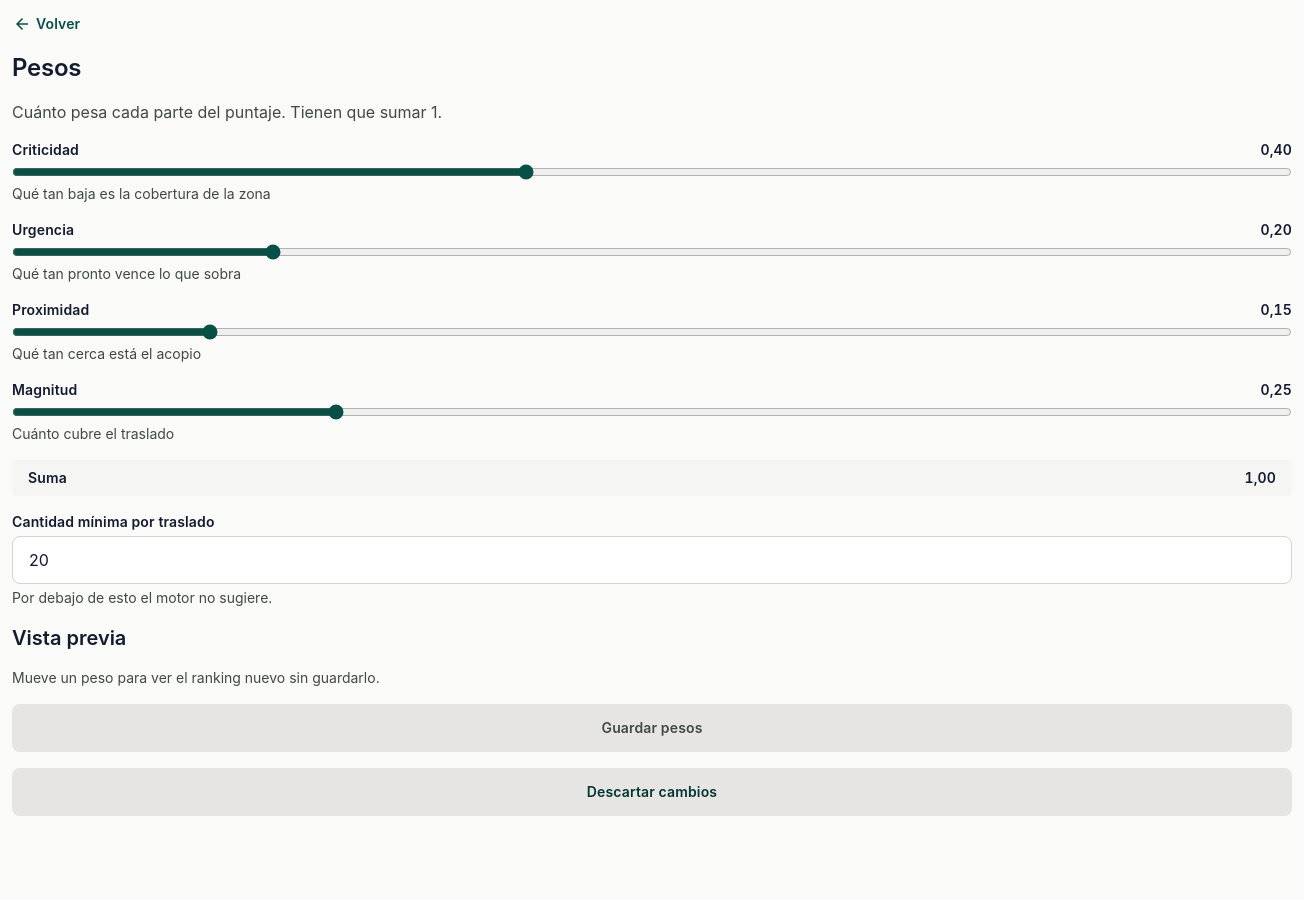
Test: guardar manda pesos y cantidad mínima y lo confirma
The image size is (1304, 900).
Check: the slider labelled "Magnitud" holds "0.25", box [12, 404, 1292, 420]
Set the slider labelled "Criticidad" to "0.35" at (462, 172), box [12, 164, 1292, 180]
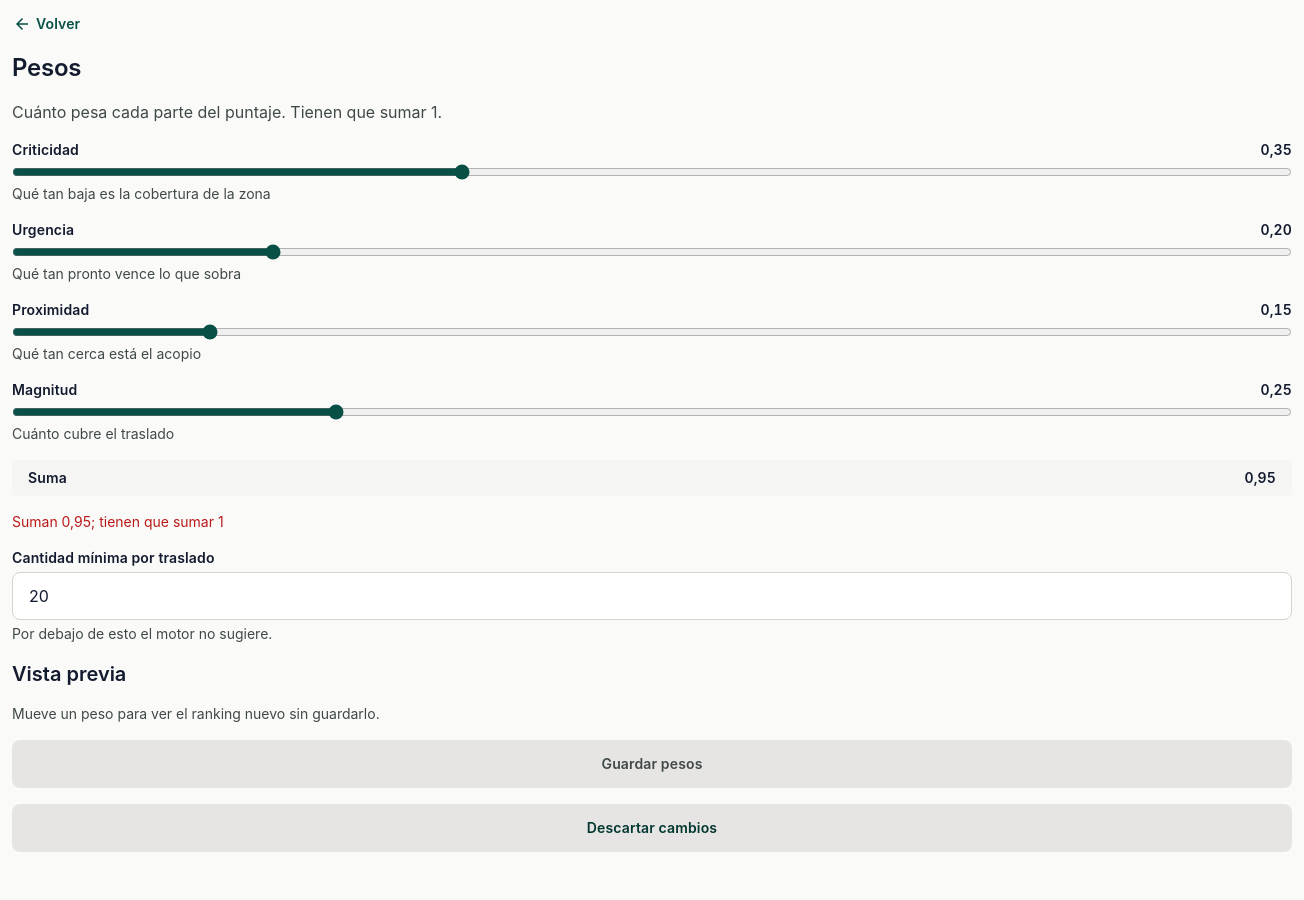
Set the slider labelled "Magnitud" to "0.3" at (399, 412), box [12, 404, 1292, 420]
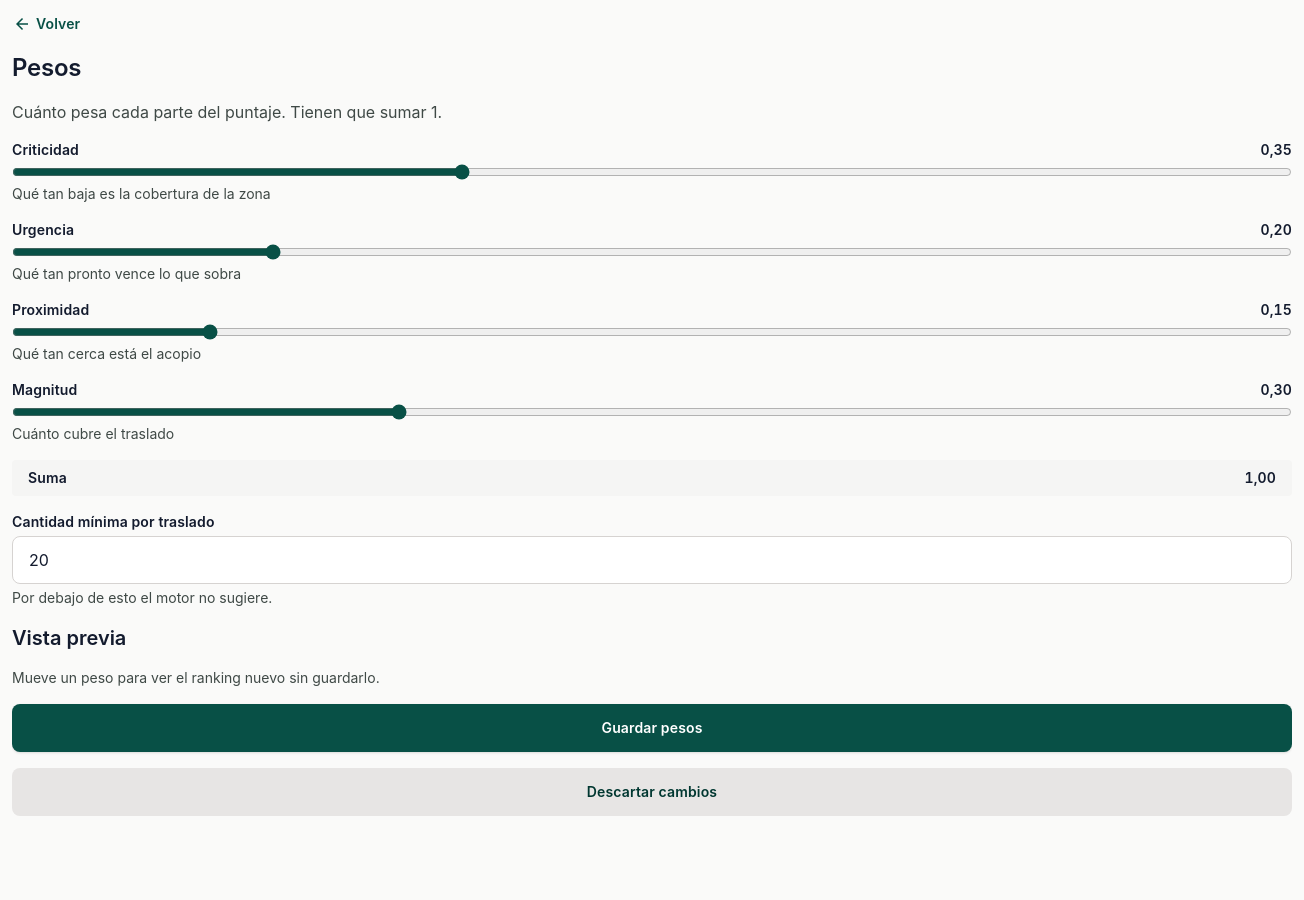
Click the button "Guardar pesos" at (652, 728), box [12, 704, 1292, 752]
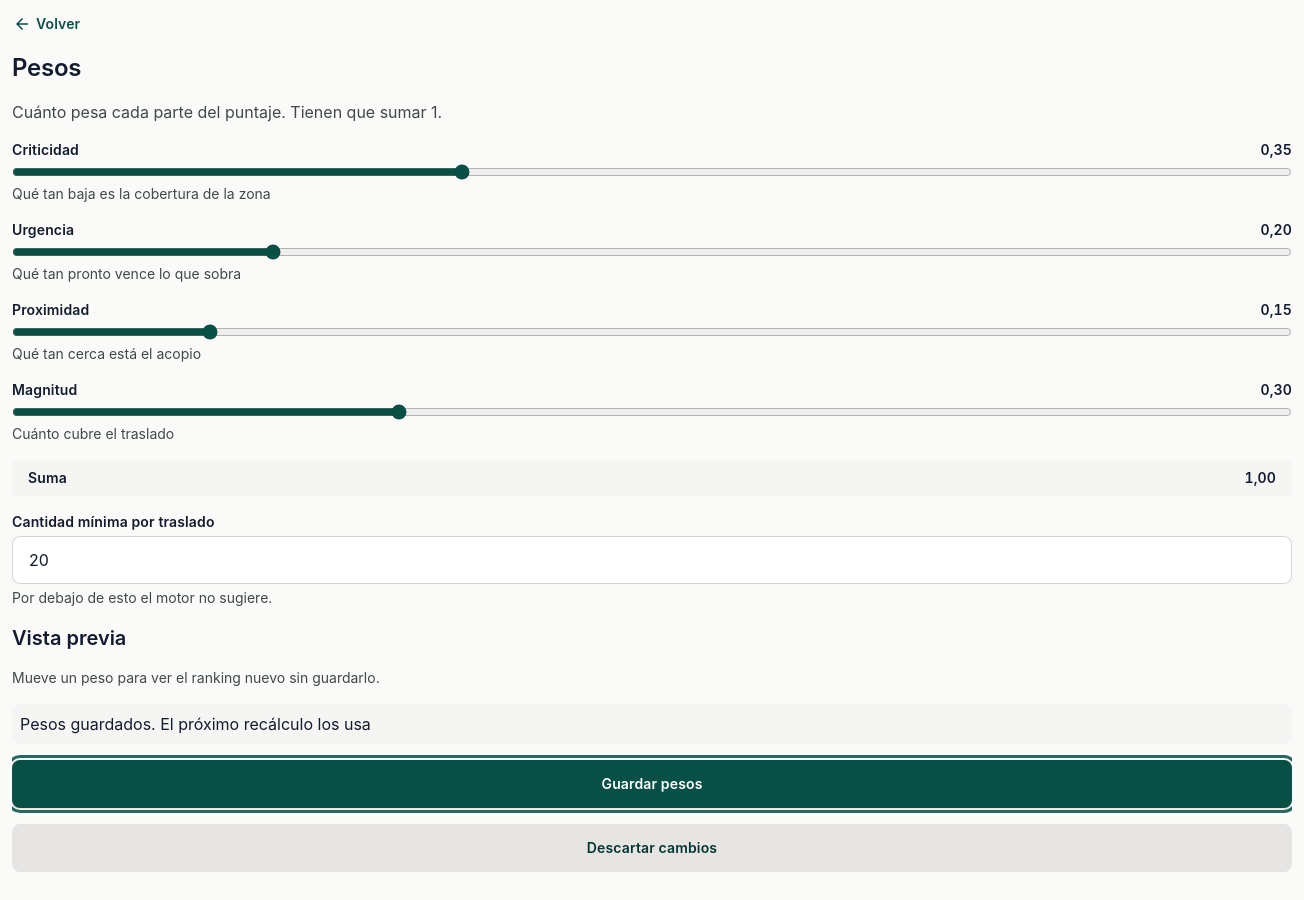
Check: the text "Pesos guardados. El próximo recálculo los usa" is shown, box [12, 704, 1292, 744]
